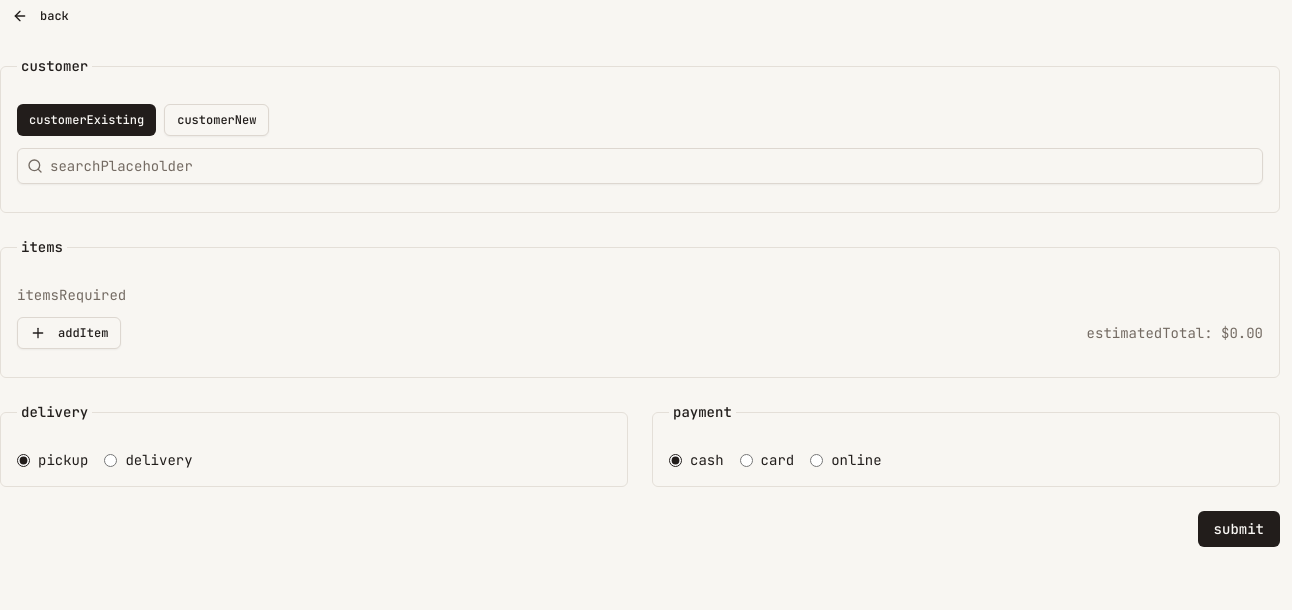
Test: OrderIntakeForm › searches customers by query with results rendered for selection
The image size is (1292, 610).
Type "ana" into the field with placeholder "searchPlaceholder" at (640,166), box [17,148,1263,184]
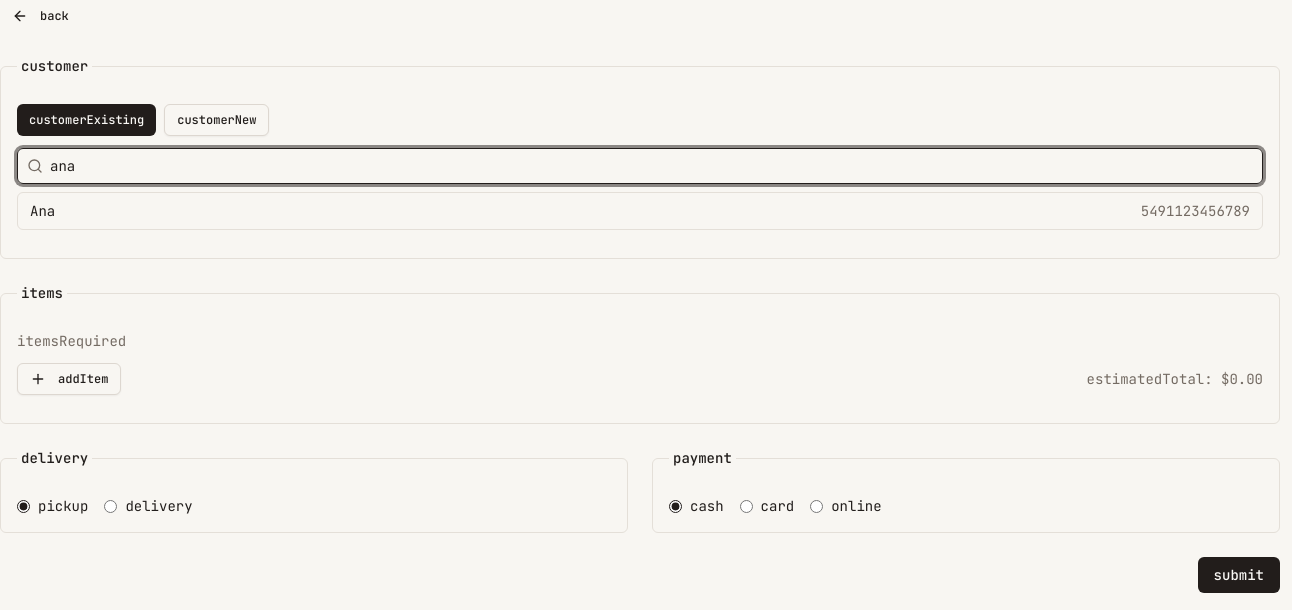
Result: the button "Ana 5491123456789" is shown at [18,193,1262,229]
